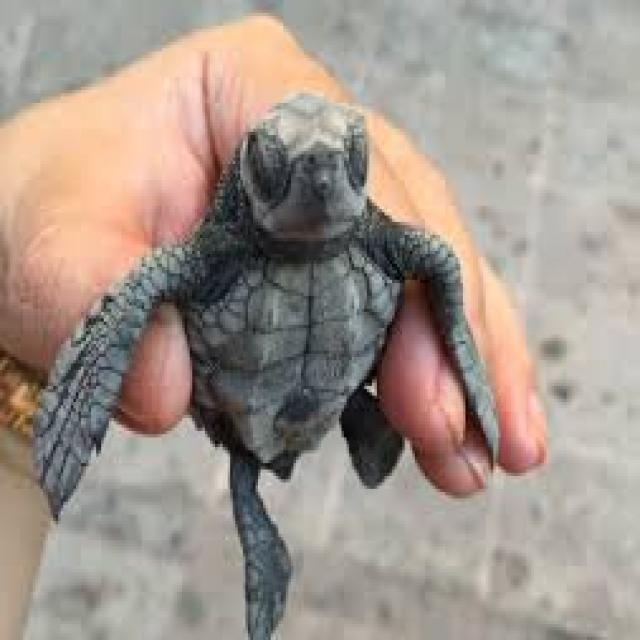turtle: (180, 107, 402, 534)
